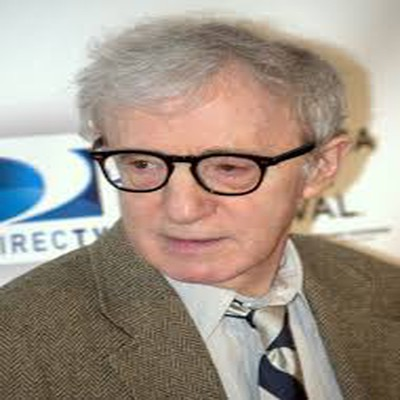eywear: (75, 108, 308, 219)
